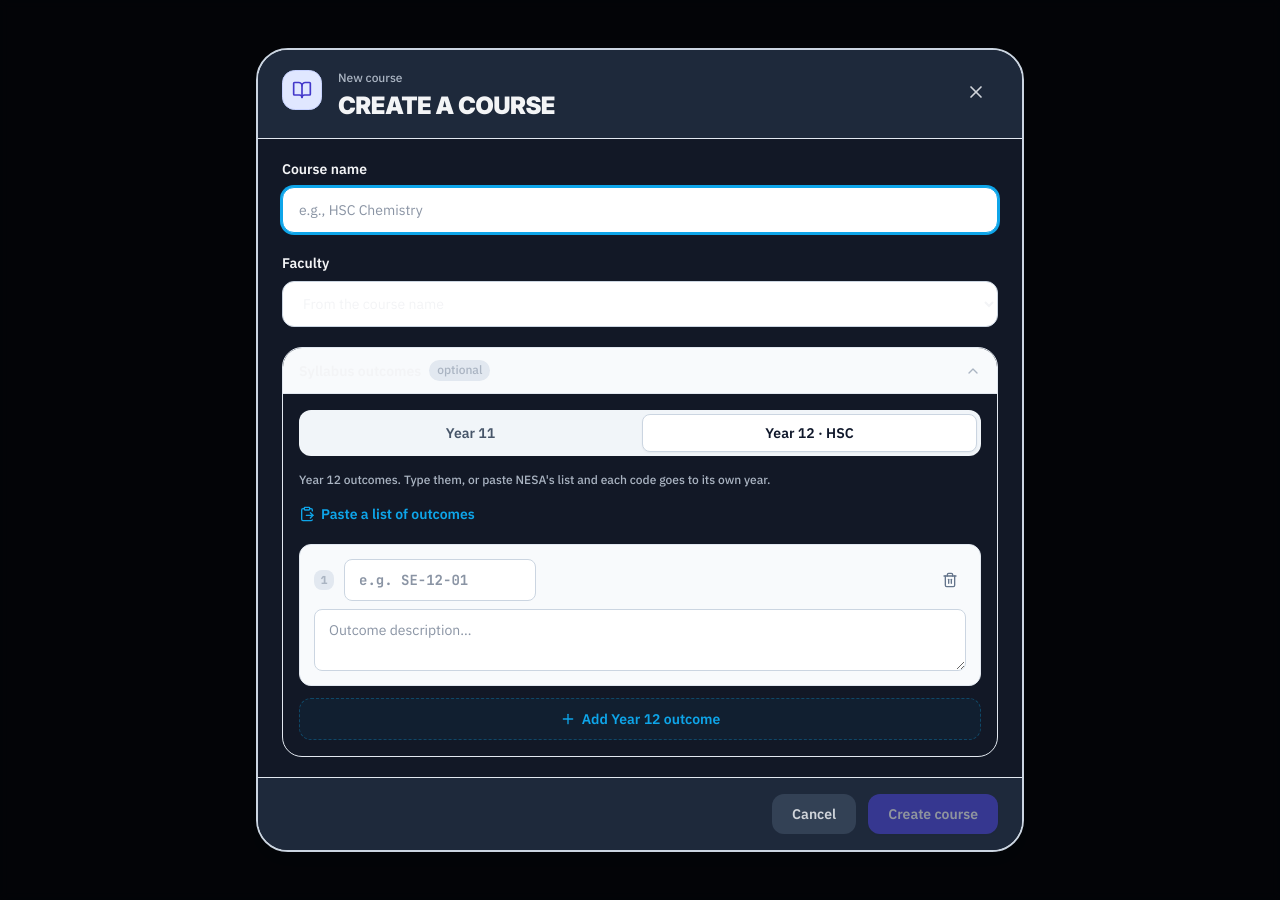
Test: creating a course with two years of outcomes › follows the year in the code example, because NESA puts it inside the code
The image size is (1280, 900).
Expected: the field with placeholder "e.g. SE-12-01" is shown, x1=344 y1=559 x2=536 y2=601
What coordinates should you click on to do the following:
click the tab "Year 11"
I would click on:
 (470, 433)
Its box is x1=303 y1=414 x2=638 y2=452.
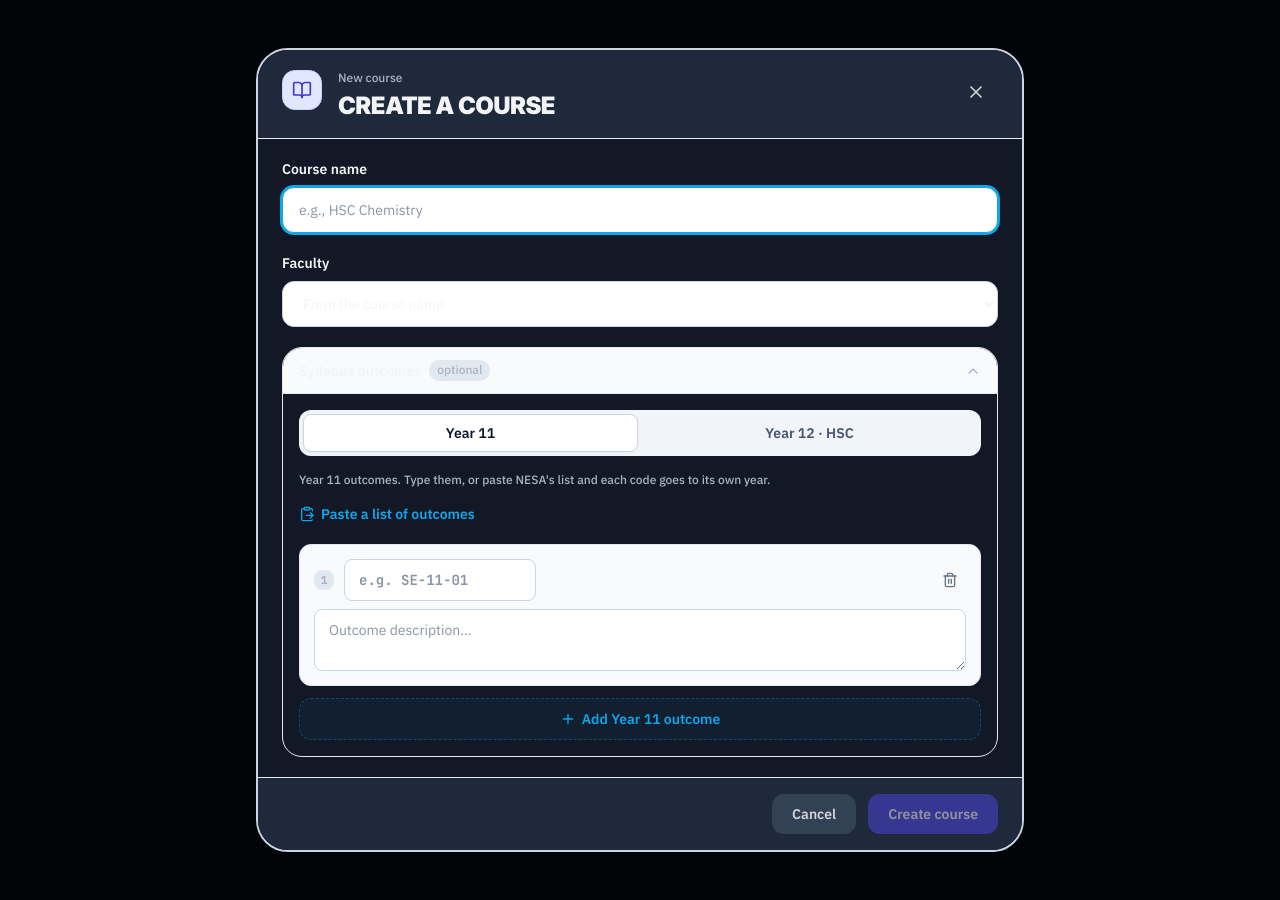
Expected: the field with placeholder "e.g. SE-11-01" is shown, x1=344 y1=559 x2=536 y2=601
